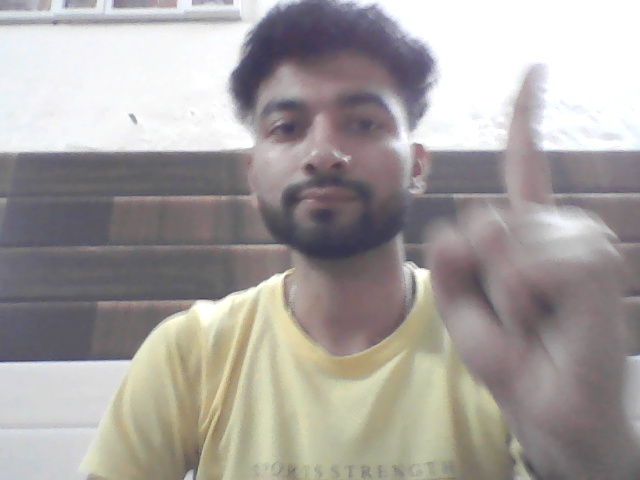Yes: (422, 50, 639, 444)
